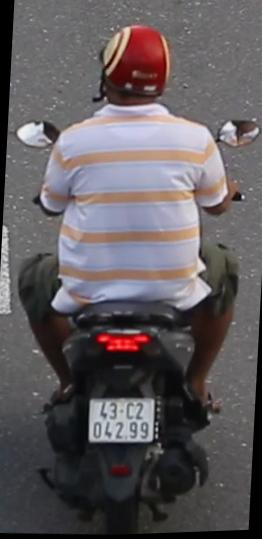LP: (84, 389, 160, 449)
helmet: (97, 18, 175, 114)
